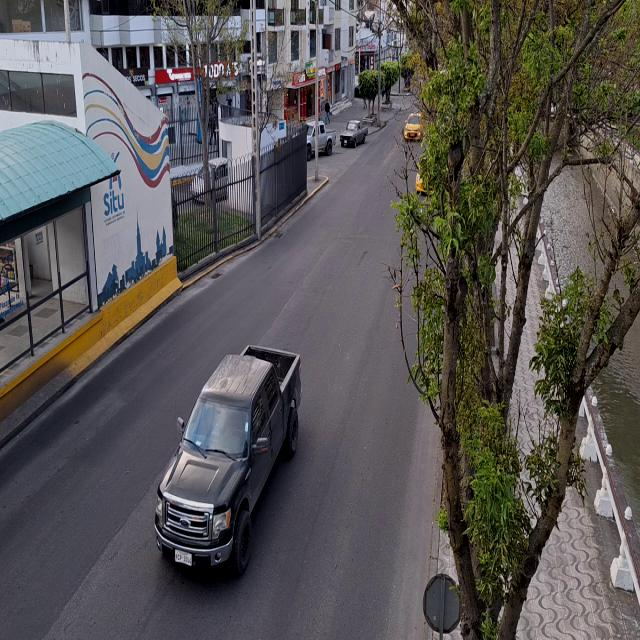CMT: (152, 346, 298, 572), (341, 120, 369, 150)
